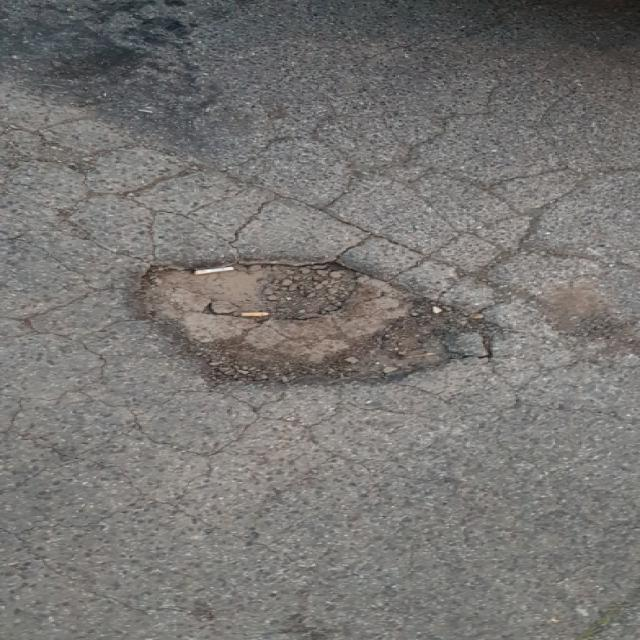Pothole: (124, 247, 495, 389)
